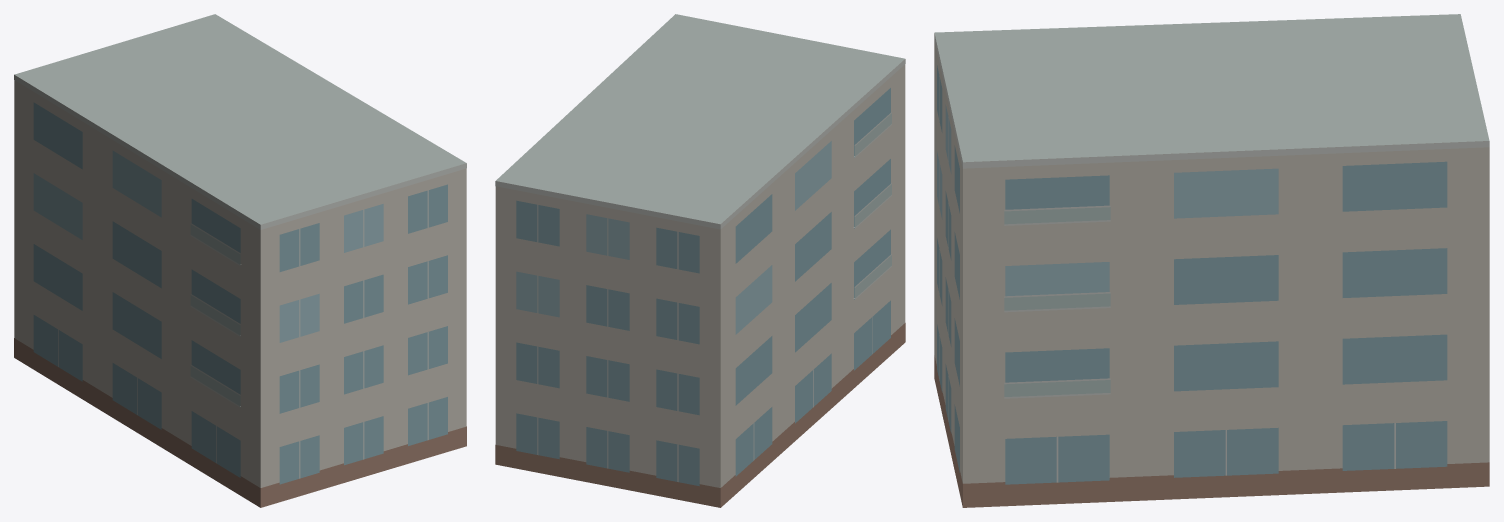
File: survey-upis-32629593.glb
3 renders of one model, left to right at view 1: azimuth 30°, elevation 25°; view 2: azimuth 150°, elevation 25°; view 3: azimuth 270°, elevation 25°, orthographic. The views are drawn at different scales.
Parts seen in each view (by area): view 1: survey-upis-32629593.tmp; view 2: survey-upis-32629593.tmp; view 3: survey-upis-32629593.tmp.
Part boxes in pixels (left/top/right/bottom): survey-upis-32629593.tmp: left=14, top=14, right=466, bottom=507; survey-upis-32629593.tmp: left=495, top=14, right=905, bottom=507; survey-upis-32629593.tmp: left=934, top=14, right=1489, bottom=507.
Bounding box in the file's own units: 12.15 × 13.2 × 19.23.
